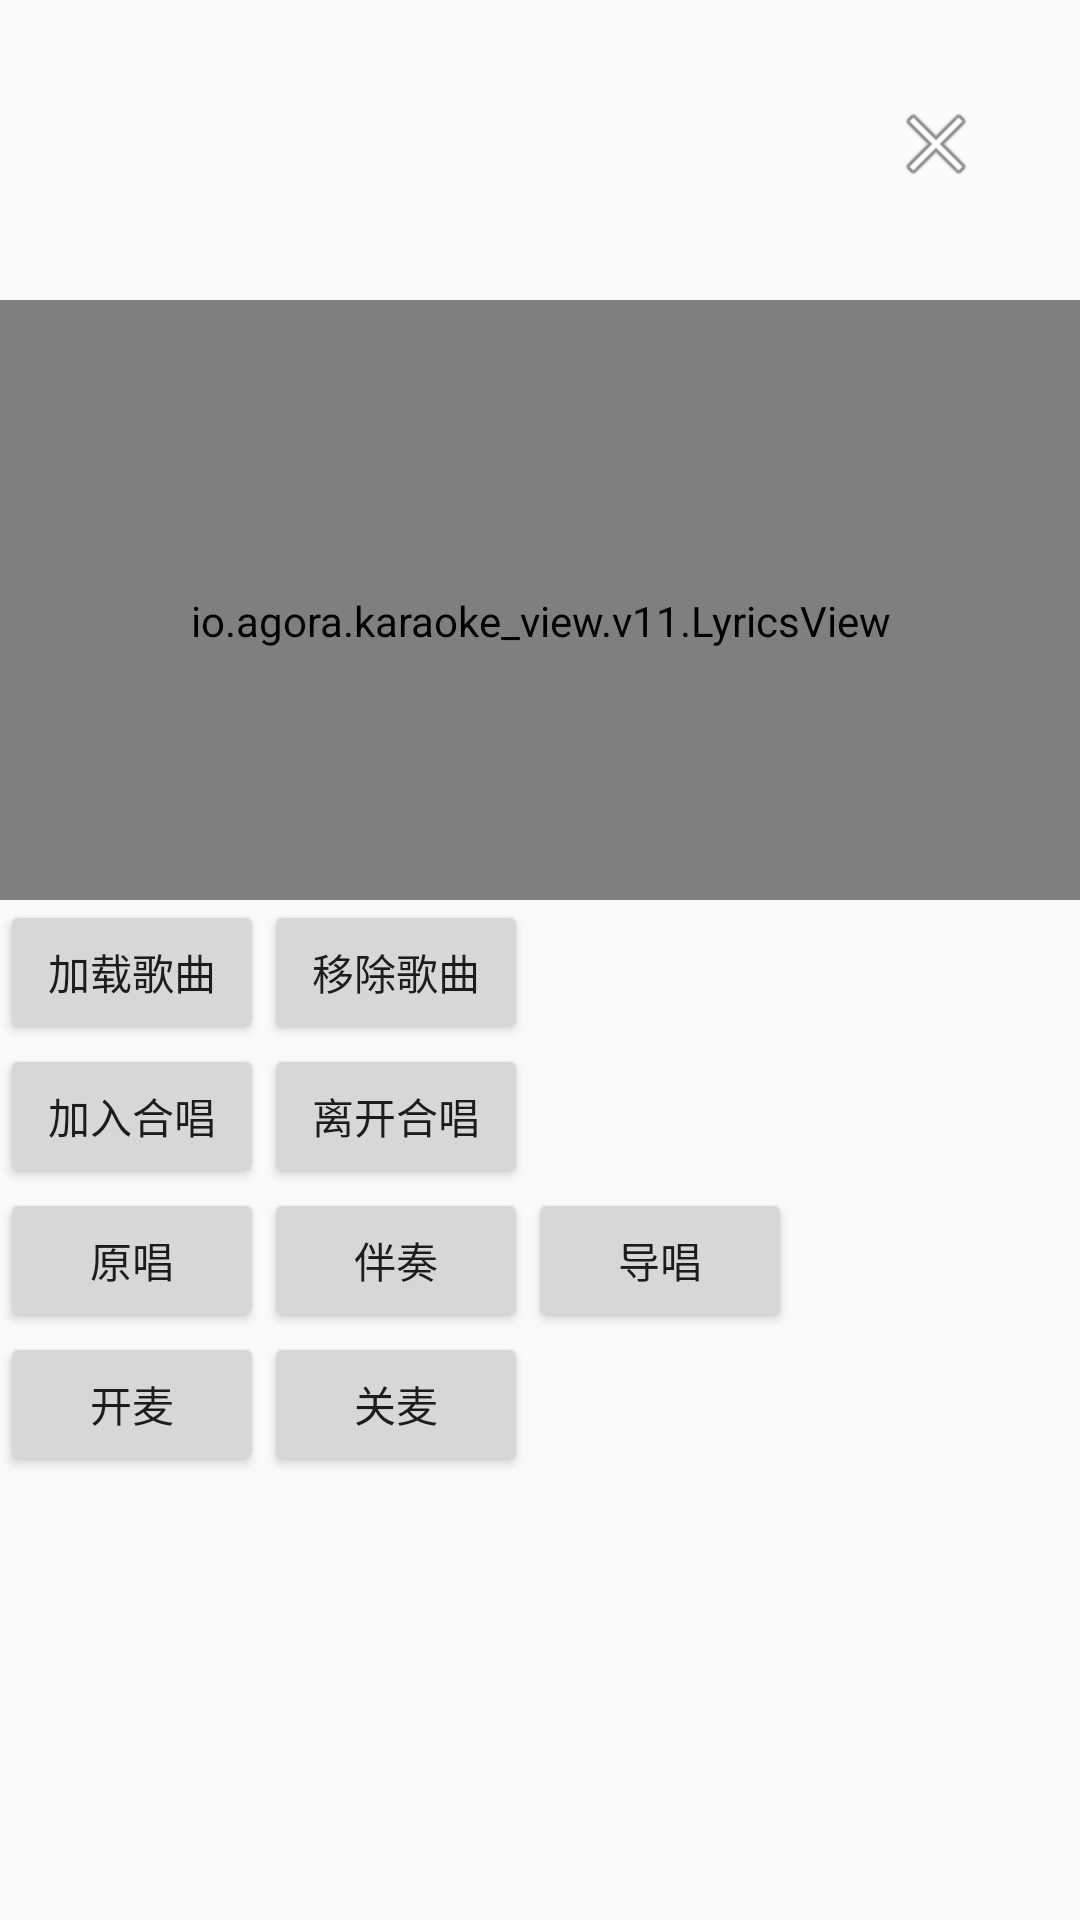

Named icons in this screenshot (1080 × 1920) and their bounding boxes, rect(x1, y1, x2, y2):
close clear cancel: rect(906, 114, 966, 174)
